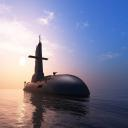submarine: (23, 34, 92, 98)
